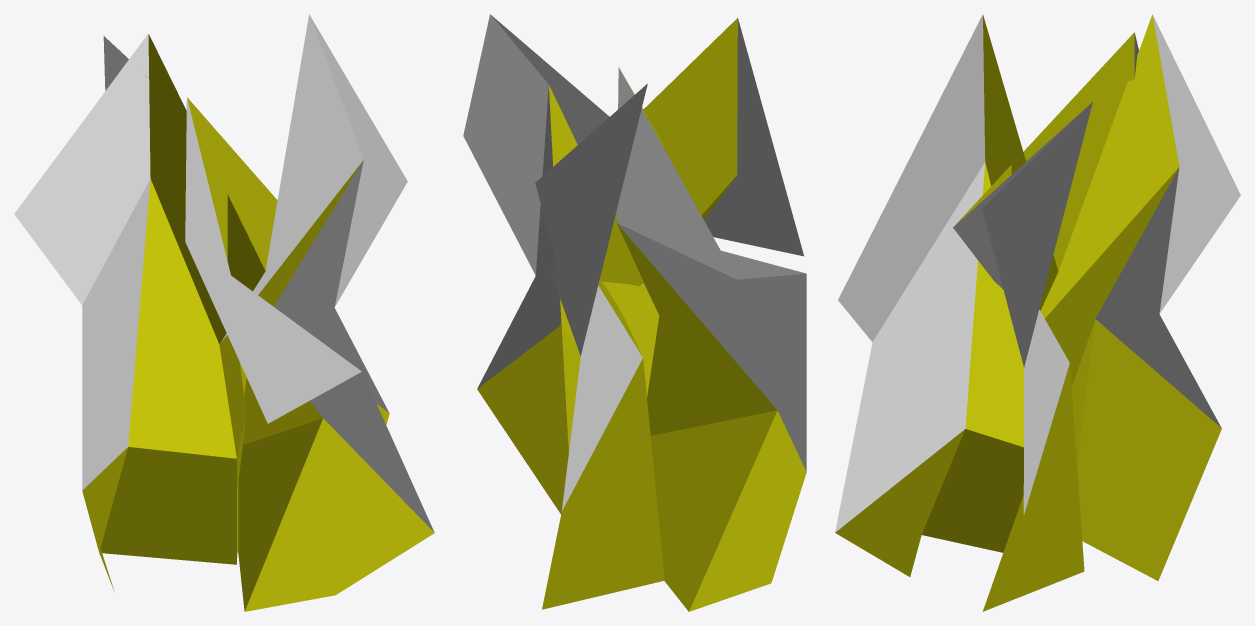
File: fire_uv.fbx
3 renders of one model, left to right at view 1: azimuth 30°, elevation 25°; view 2: azimuth 150°, elevation 25°; view 3: azimuth 270°, elevation 25°, orthographic. The views are drawn at different scales.
Visible parts, largest first — view 1: fire; view 2: fire; view 3: fire.
Part boxes in pixels (x1=…): fire: x1=14, y1=14, x2=434, y2=611; fire: x1=463, y1=14, x2=806, y2=611; fire: x1=835, y1=14, x2=1240, y2=611.
Bounding box in the file's own units: 40.3 × 60.77 × 43.02.
